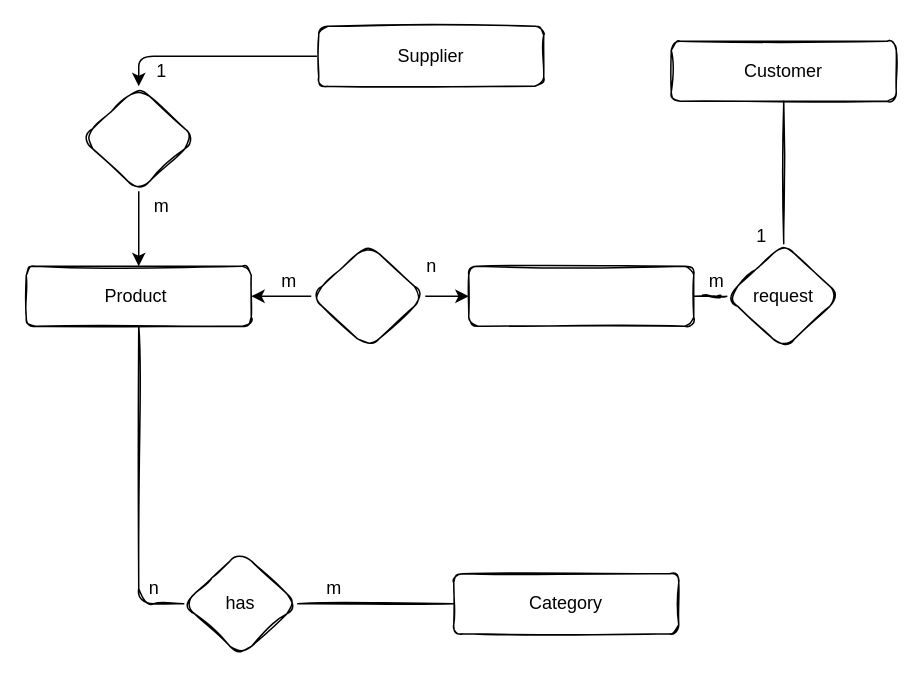
Image size: 923x683. Some labels were removed from this diagram. The shapes that lost their labels are listed below. From the top down, each one's centre as x and y in pixels, then its label:
point (138, 138): add
point (367, 295): orders Products
point (580, 295): Orders
